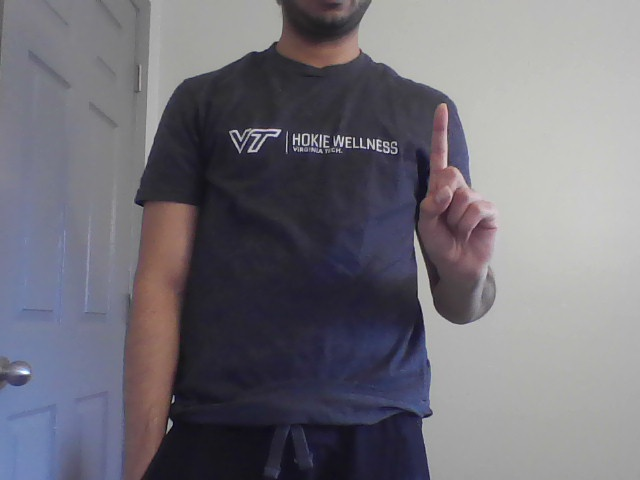one: (415, 100, 502, 277)
